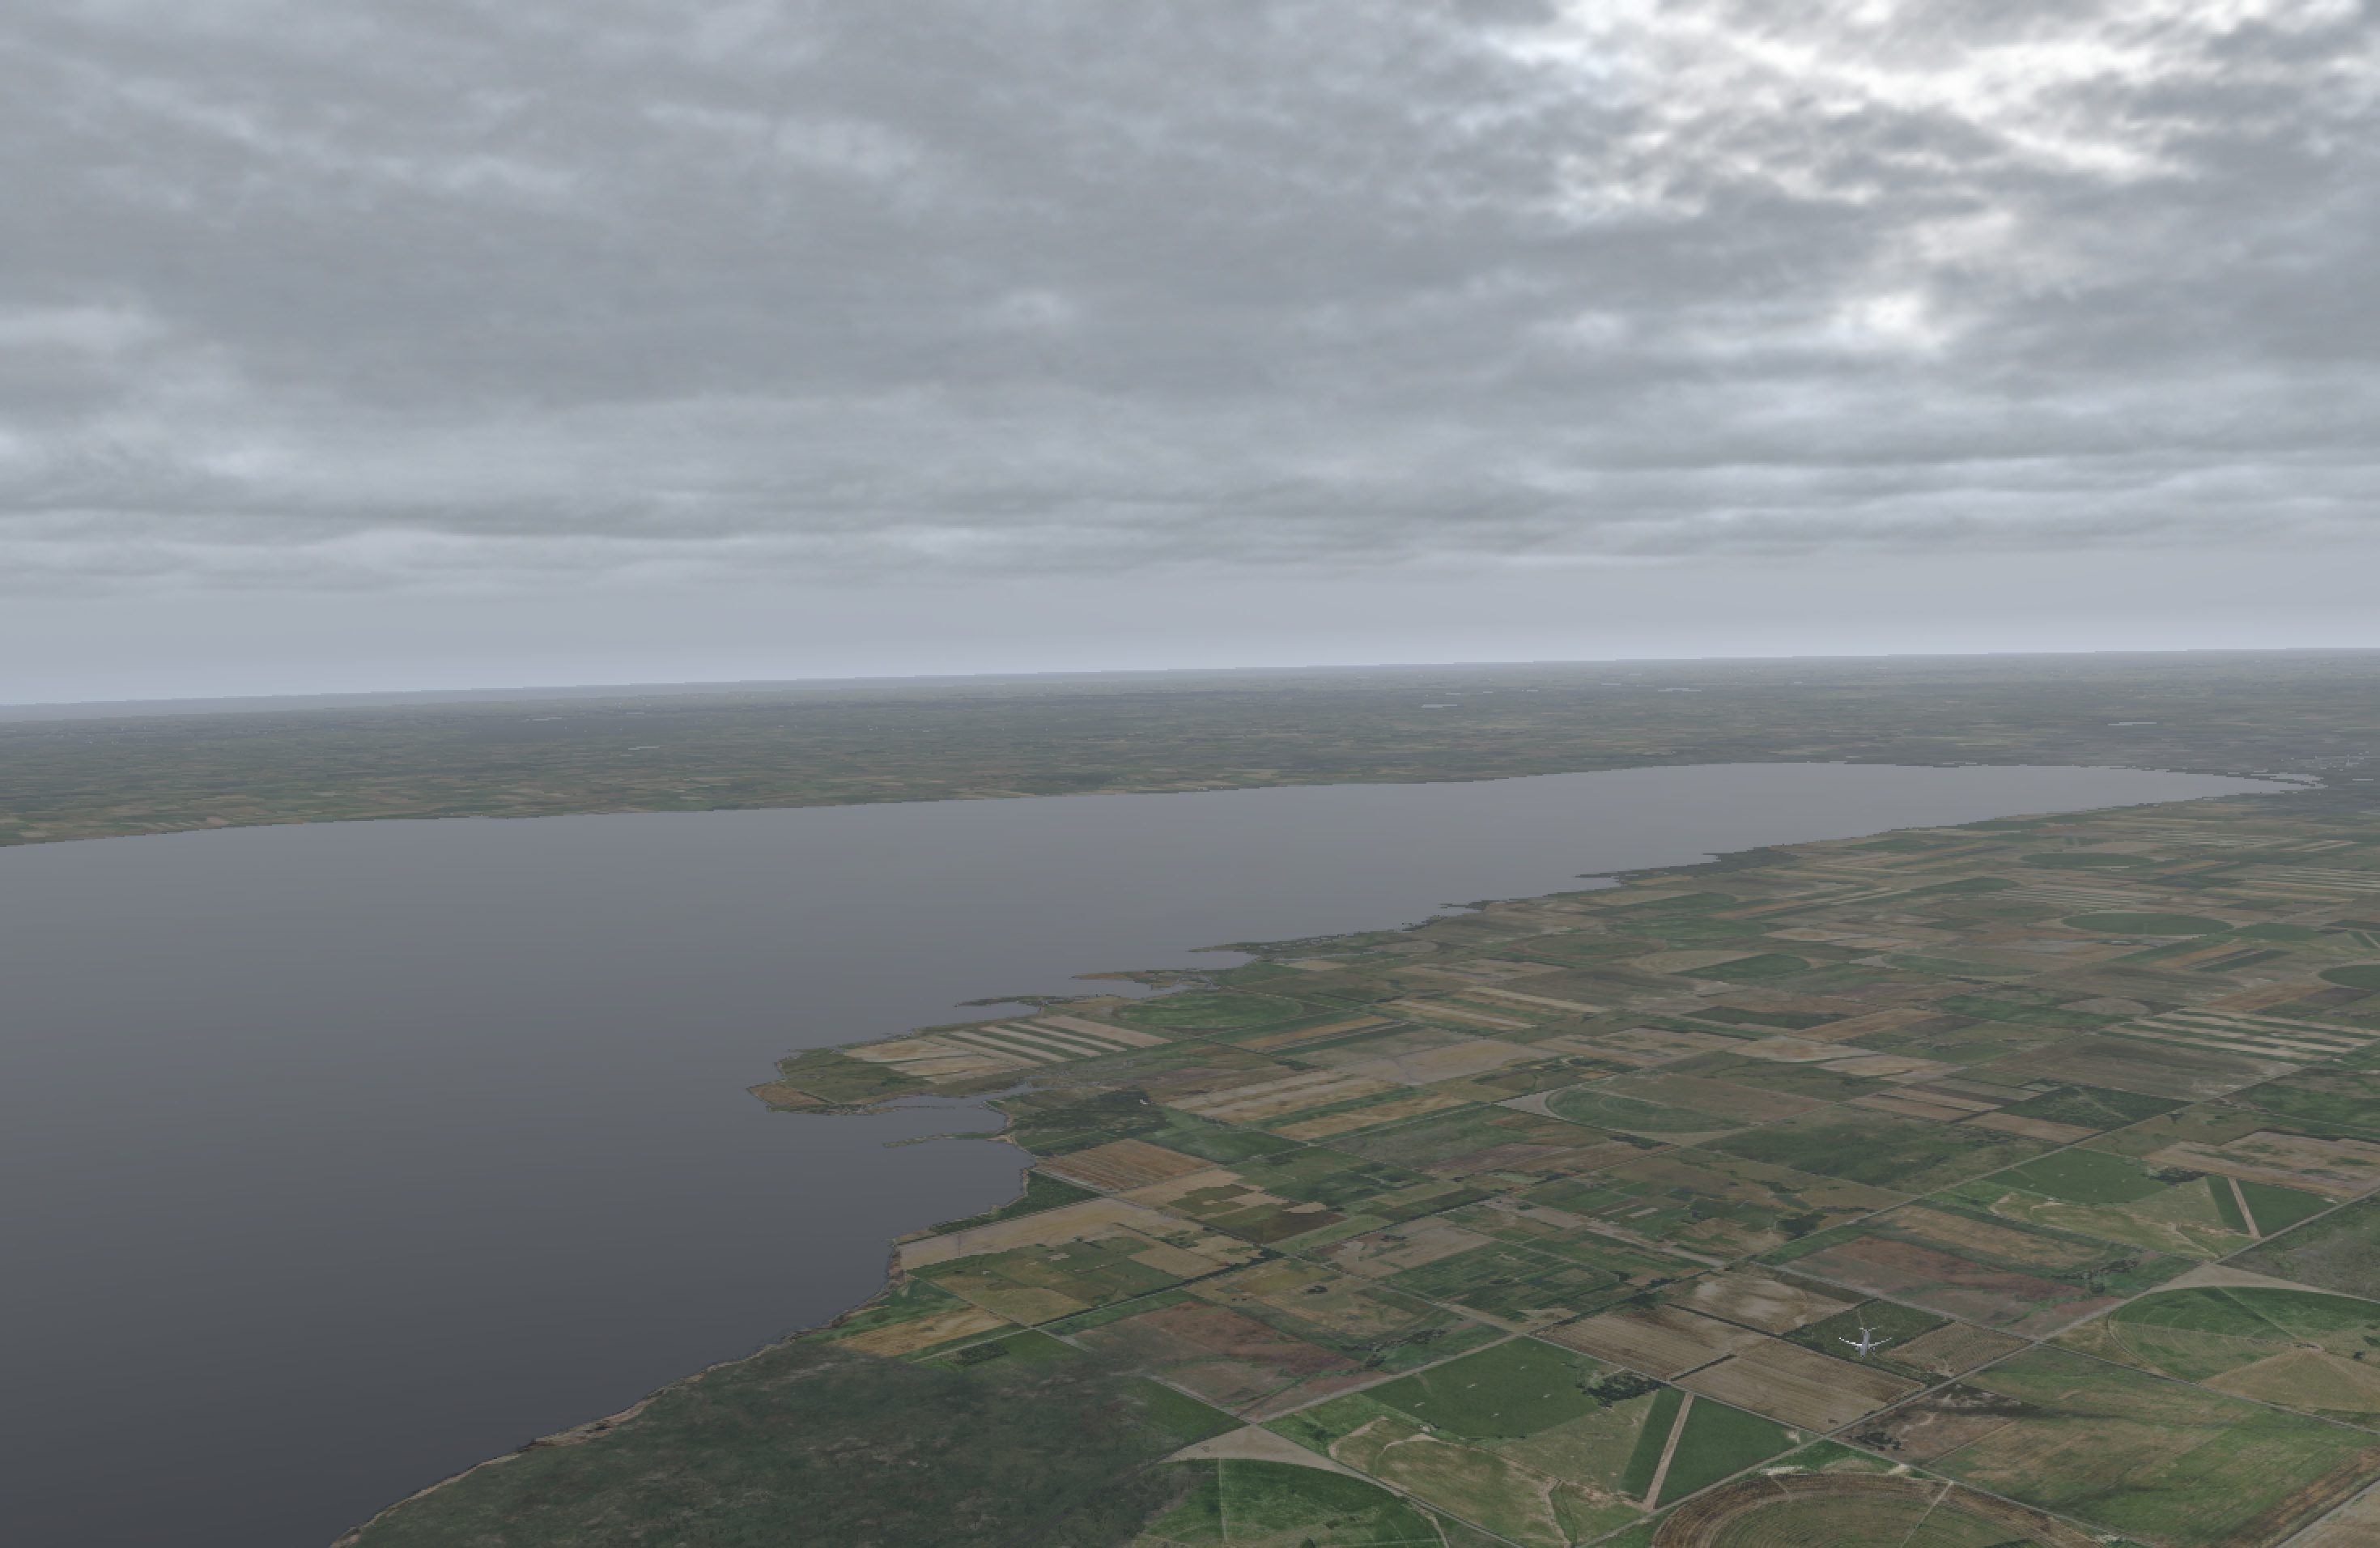aircraft: (1837, 1335, 1893, 1355)
